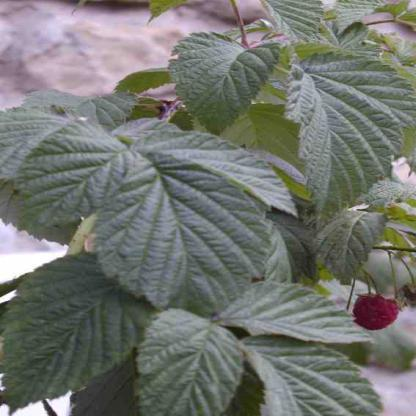Raspberry leaf: (90, 146, 268, 323), (290, 51, 412, 252), (233, 326, 388, 416), (167, 27, 287, 134), (132, 310, 243, 416), (221, 274, 378, 348)
